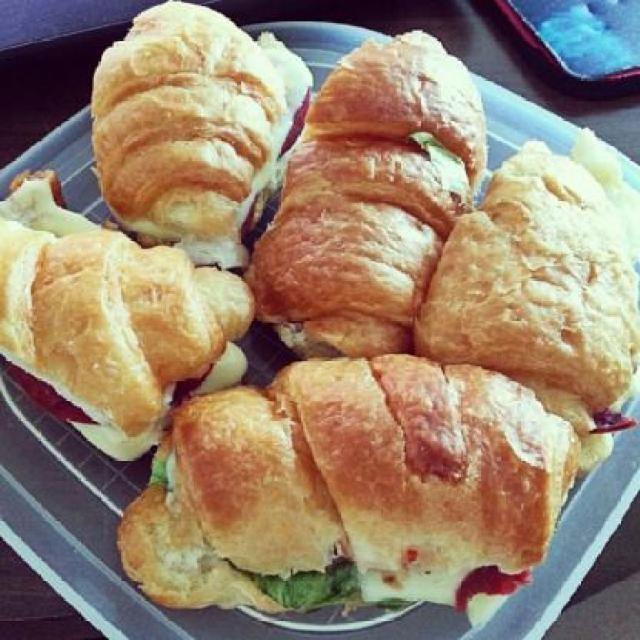Croissant: (120, 352, 578, 614), (246, 29, 490, 360), (415, 142, 639, 480), (0, 175, 257, 459), (88, 14, 306, 246)
